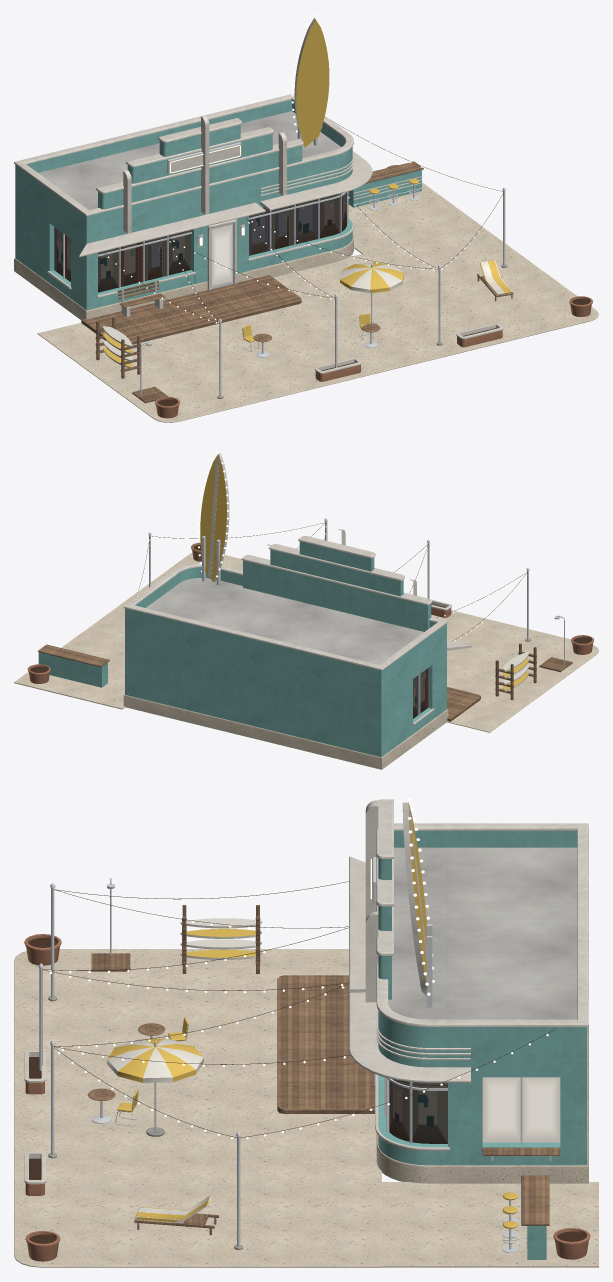
File: plot_surf_shop.gltf
3 renders of one model, top to bottom at view 1: azimuth 30°, elevation 25°; view 2: azimuth 150°, elevation 25°; view 3: azimuth 270°, elevation 25°, orthographic. The views are drawn at different scales.
Visible parts, largest first — view 1: plot_surf_shop_mesh, sign_face; view 2: plot_surf_shop_mesh; view 3: plot_surf_shop_mesh.
Part boxes in pixels (box(x1,y1,x2,y2)): plot_surf_shop_mesh: box(14, 14, 598, 422); sign_face: box(169, 144, 240, 173); plot_surf_shop_mesh: box(14, 451, 598, 769); plot_surf_shop_mesh: box(14, 798, 598, 1267).
Size of the model in its own units: 19.4 by 10.17 by 15.1.
Materials: 13 (9 with a texture image).
